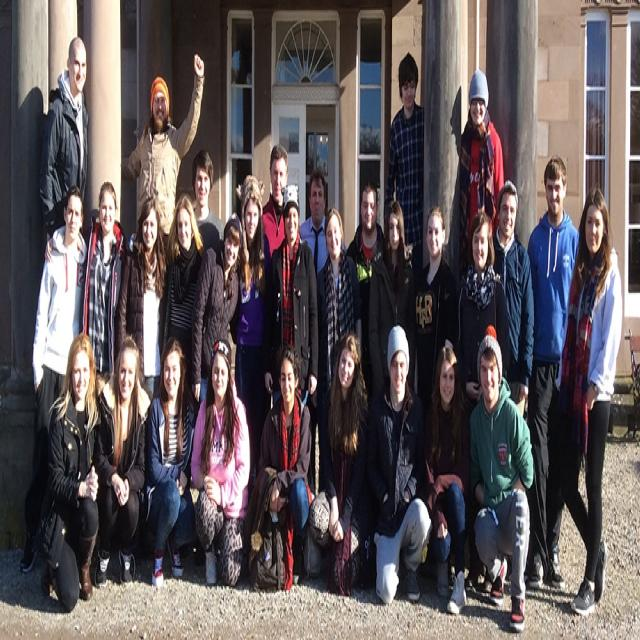body: (556, 184, 624, 618), (18, 182, 88, 575), (523, 152, 580, 593), (468, 323, 535, 634), (364, 322, 434, 608), (39, 330, 102, 617), (121, 48, 206, 250), (188, 334, 254, 592), (43, 179, 127, 380), (298, 165, 348, 499), (308, 330, 371, 593), (92, 332, 154, 590), (142, 332, 204, 590), (252, 343, 313, 590), (228, 174, 272, 506), (260, 182, 322, 411), (424, 334, 472, 616), (452, 209, 512, 414), (112, 195, 170, 397), (37, 32, 90, 242), (189, 210, 244, 407), (382, 50, 426, 296), (344, 180, 390, 412), (492, 176, 536, 418), (458, 67, 505, 291), (367, 198, 418, 404), (314, 205, 364, 401), (414, 204, 458, 396), (162, 192, 205, 361), (191, 148, 226, 252), (260, 142, 289, 258)
